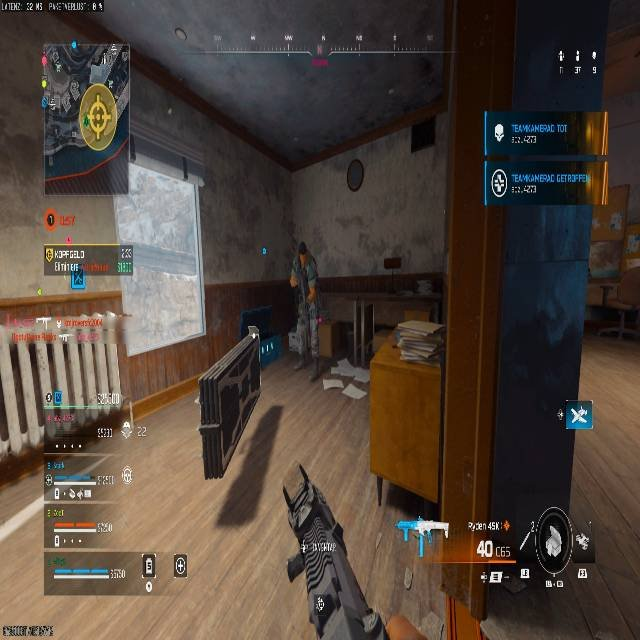player: (291, 239, 316, 292)
